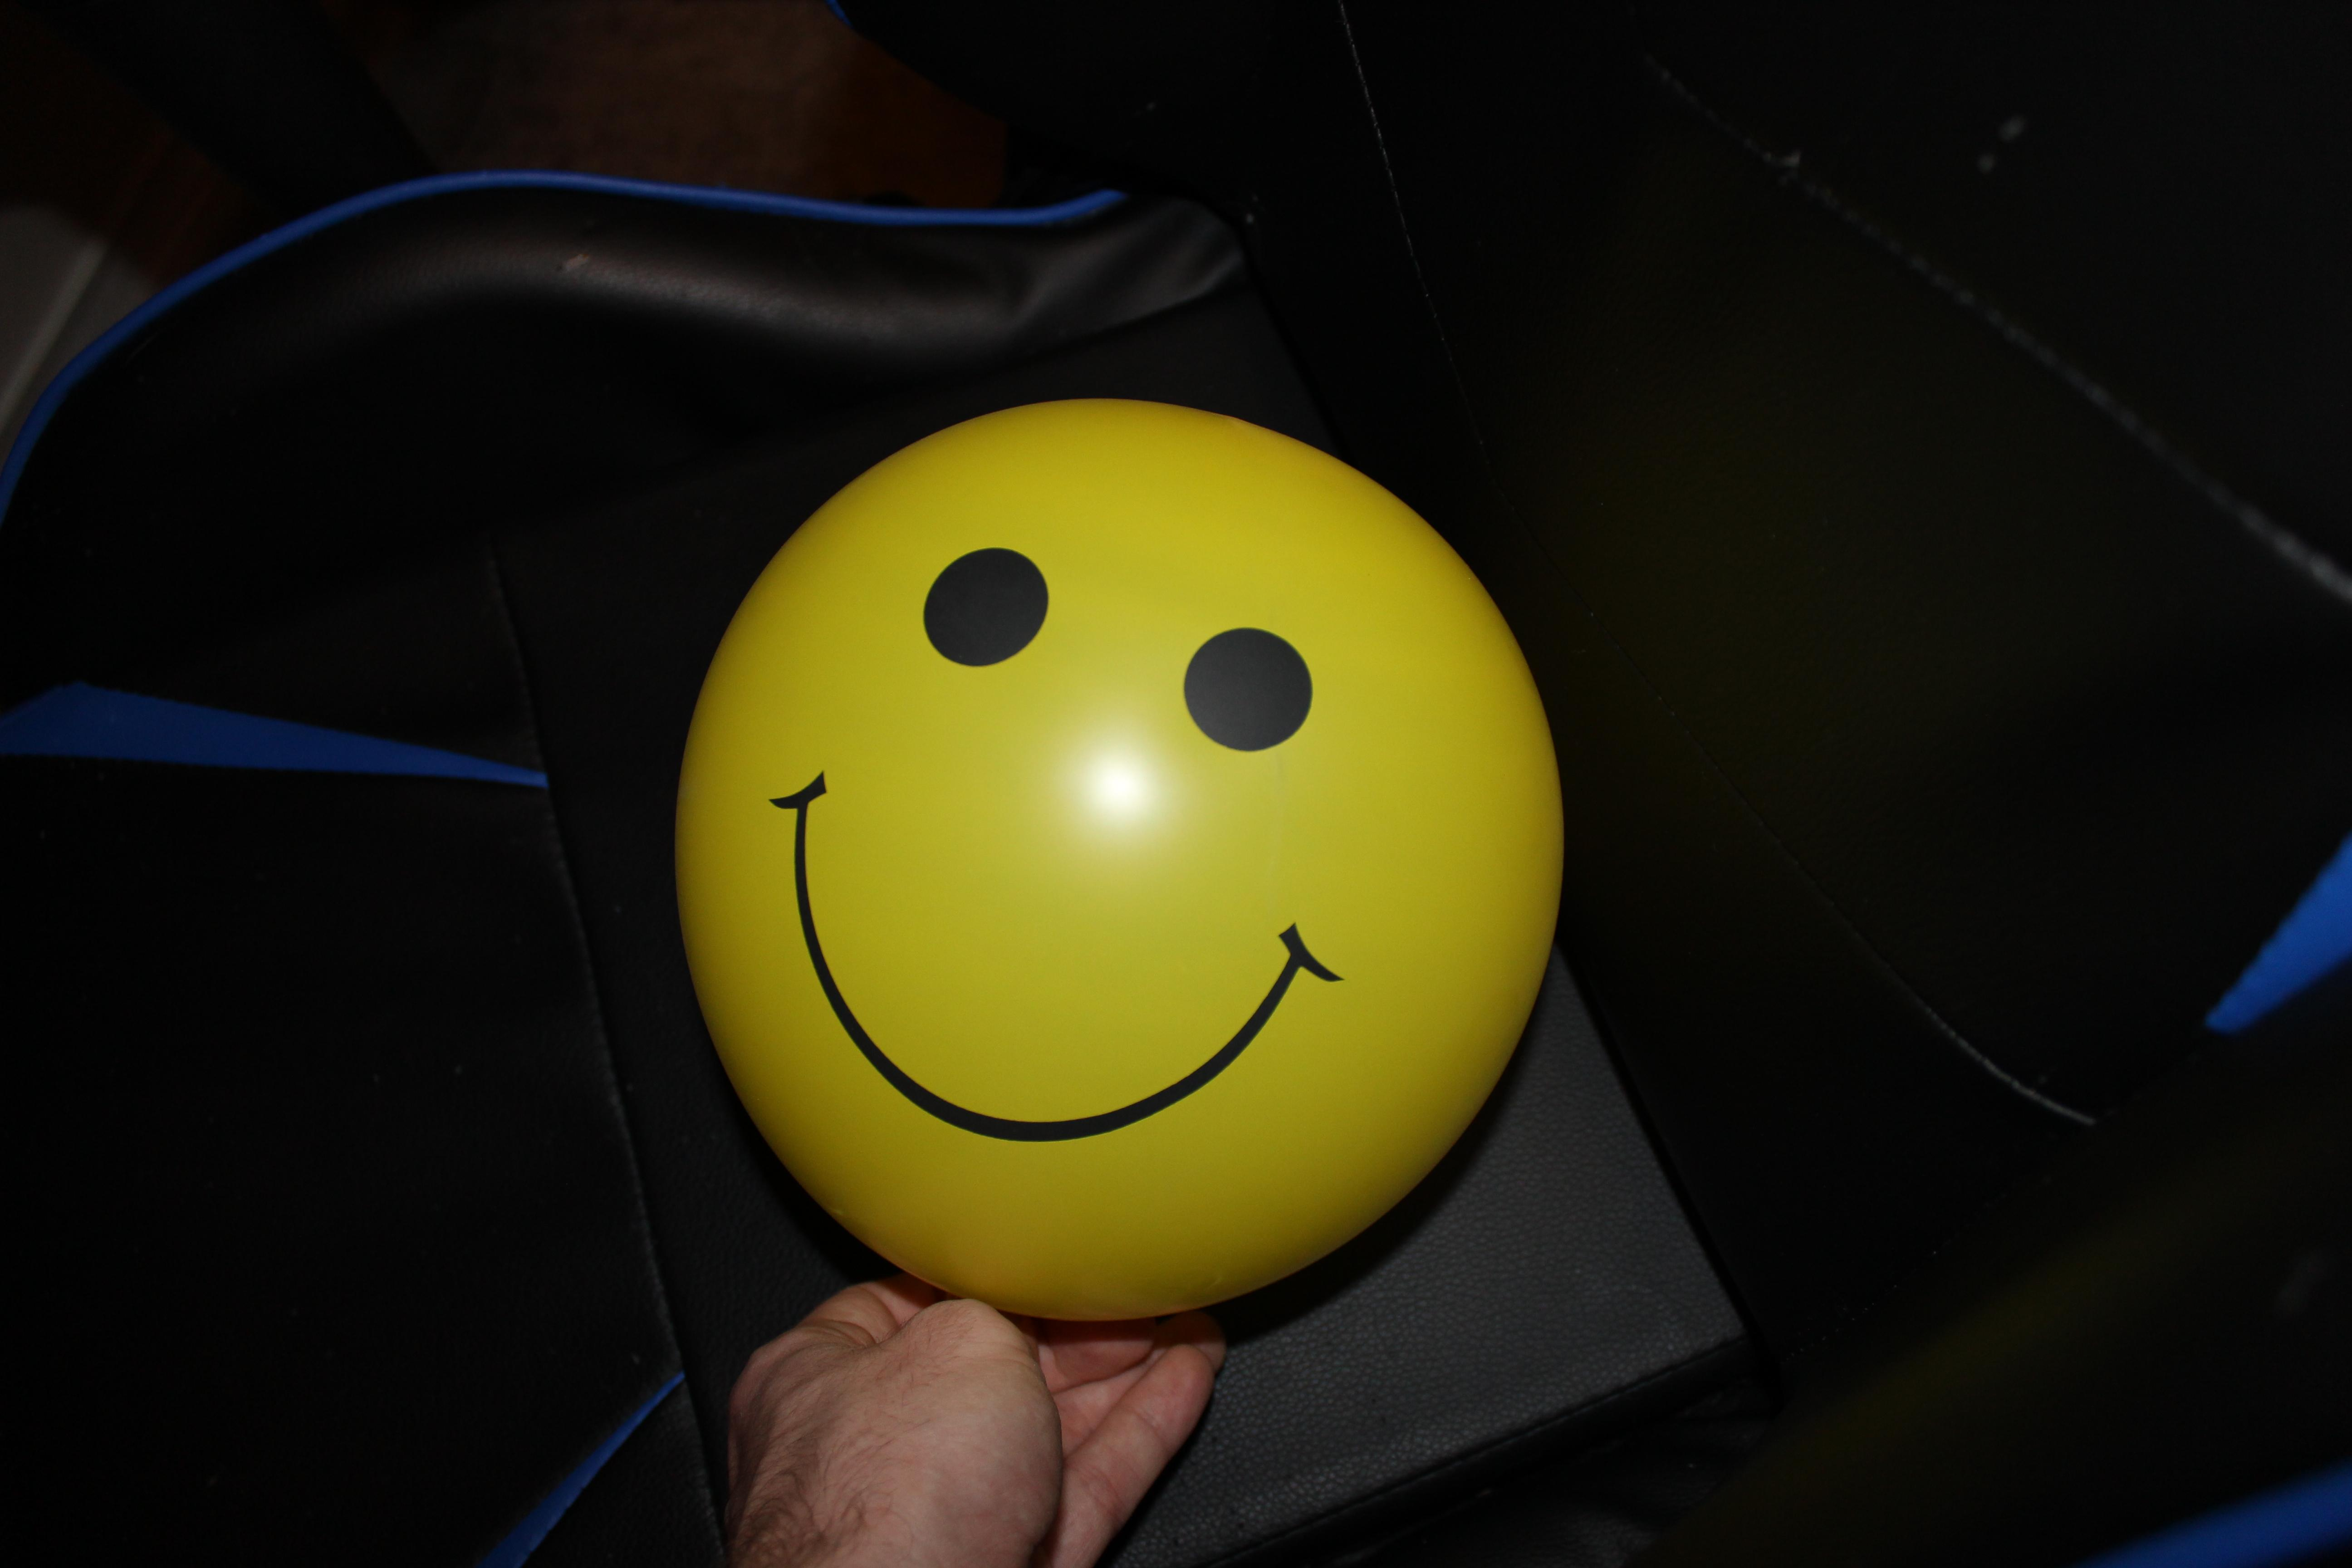yellowBalloon: (623, 355, 1617, 1362)
